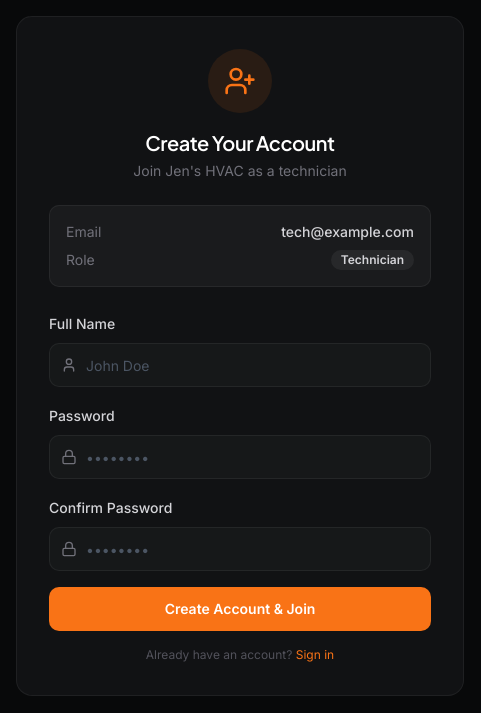
Test case: AcceptInvite › does not expose the invite token in the confirm-email UI or toast copy
Type "Tech Person" into the field with placeholder "John Doe". click: coordinates (240, 365)
box: [49,343,431,387]
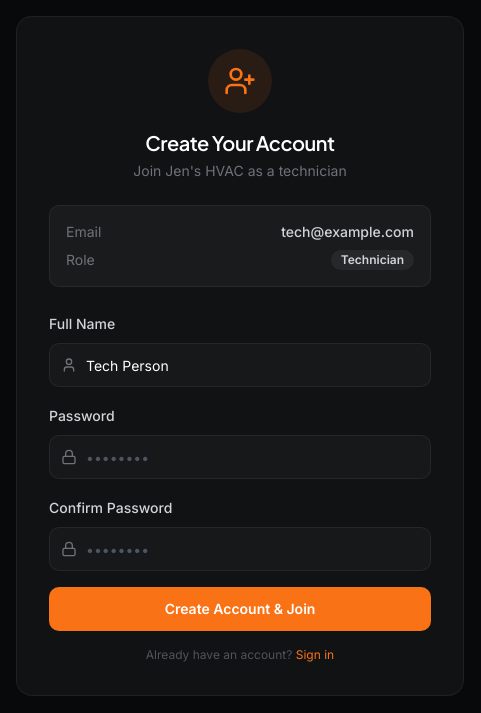
Type "password123" into the 1st password field with placeholder "••••••••". click: coordinates (240, 457)
box: [49,435,431,479]
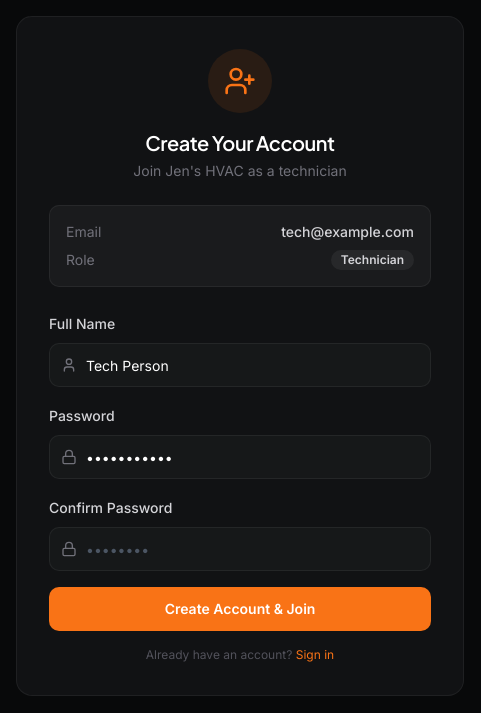
Type "password123" into the password field with placeholder "••••••••". click: coordinates (240, 549)
box: [49,527,431,571]
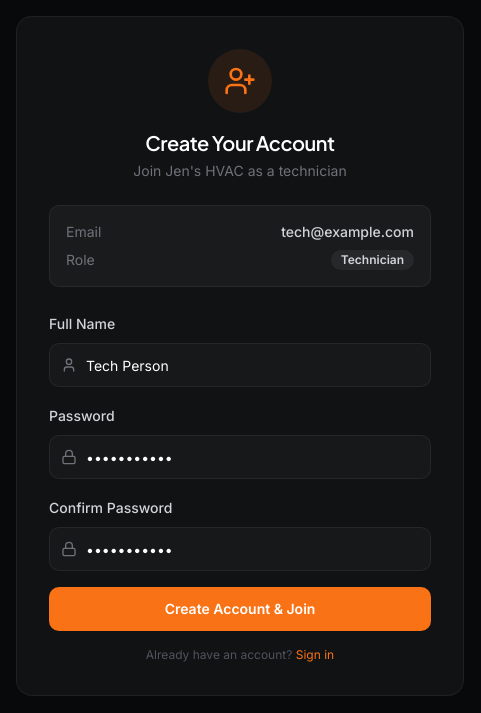
Click the button "Create Account & Join". click: coordinates (240, 609)
box: [49,587,431,631]
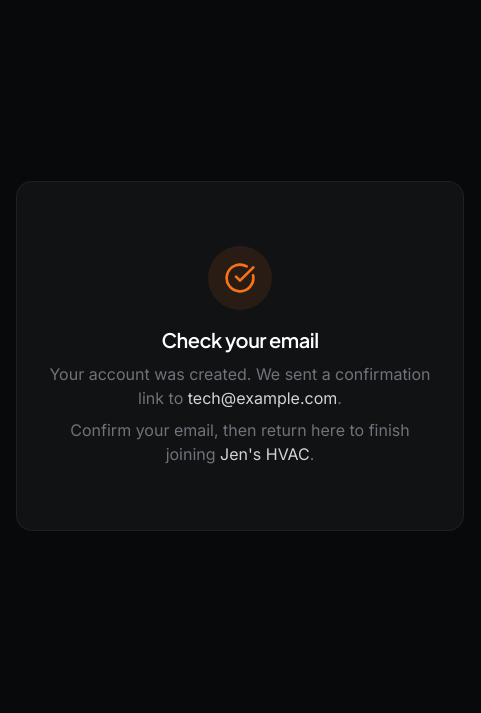
Now the heading "Check your email" is shown, box [161,326,319,354]
